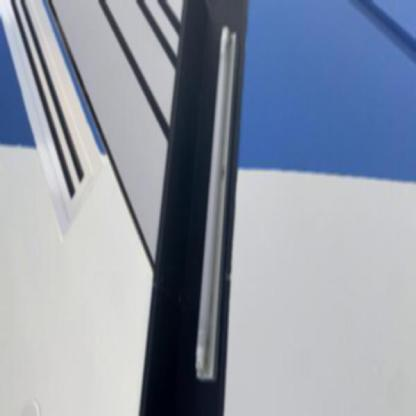light_off: (184, 18, 246, 386)
